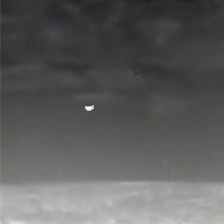Target: (84, 104, 94, 112)
